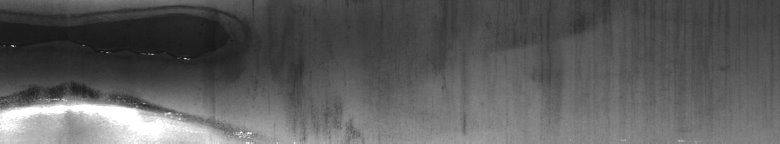ke: (4, 4, 257, 136)
